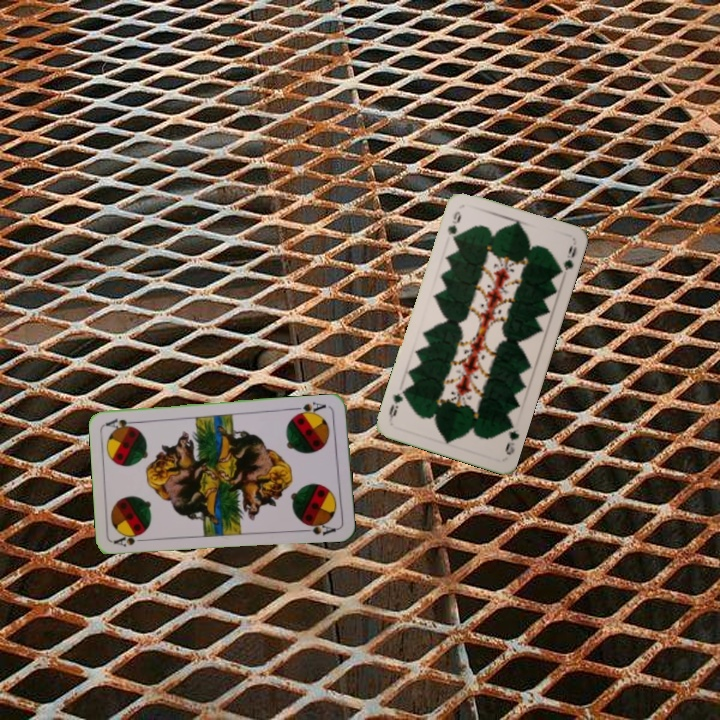G9: (501, 418, 522, 458), (444, 207, 464, 244)
SA: (110, 529, 151, 550), (291, 398, 328, 419)
